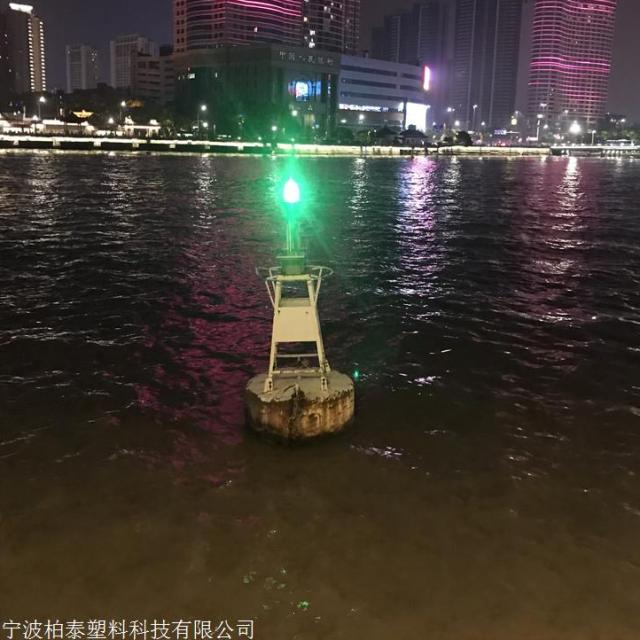buoy: (251, 149, 361, 436)
